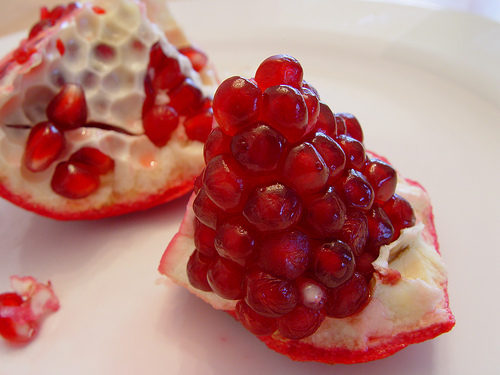pomogranate: (0, 2, 455, 374)
